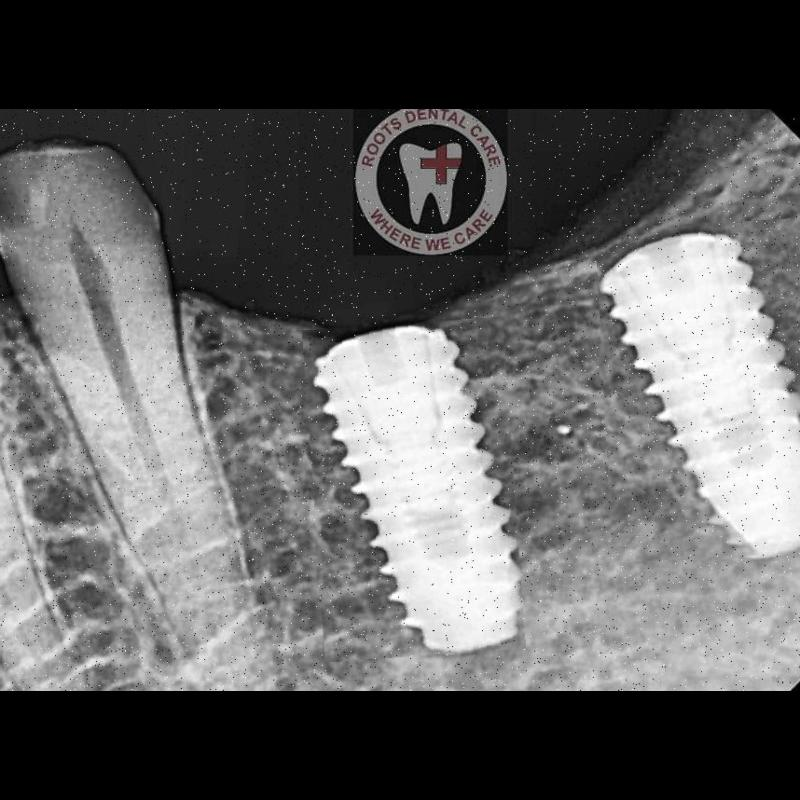osstem: (308, 320, 520, 660), (598, 220, 800, 560)
